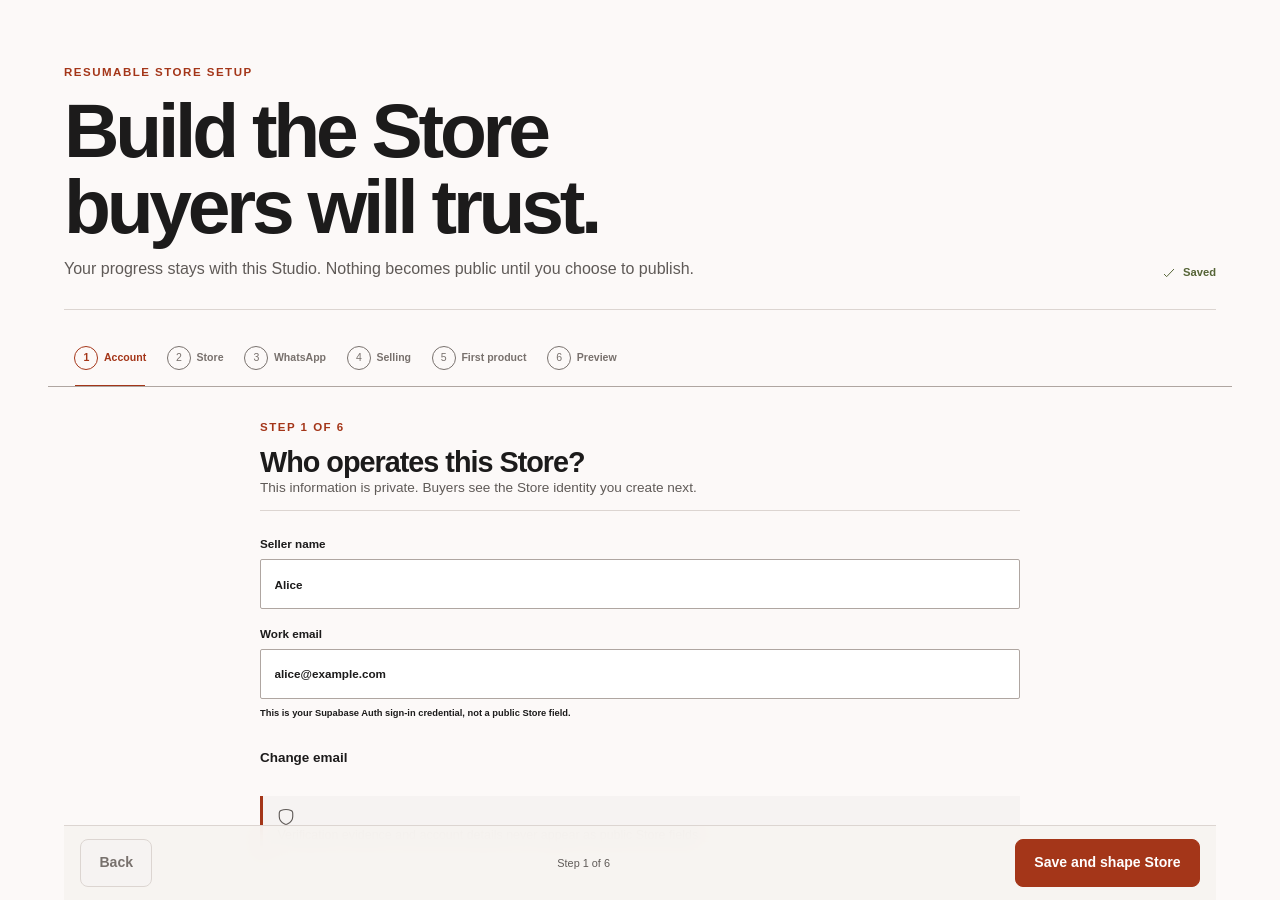
seller onboarding › uses one request for Account → Store and does not advance when persistence fails
Replace the text in the field labelled "Seller name" with "Alice Banda" at (640, 584), box [260, 559, 1020, 609]
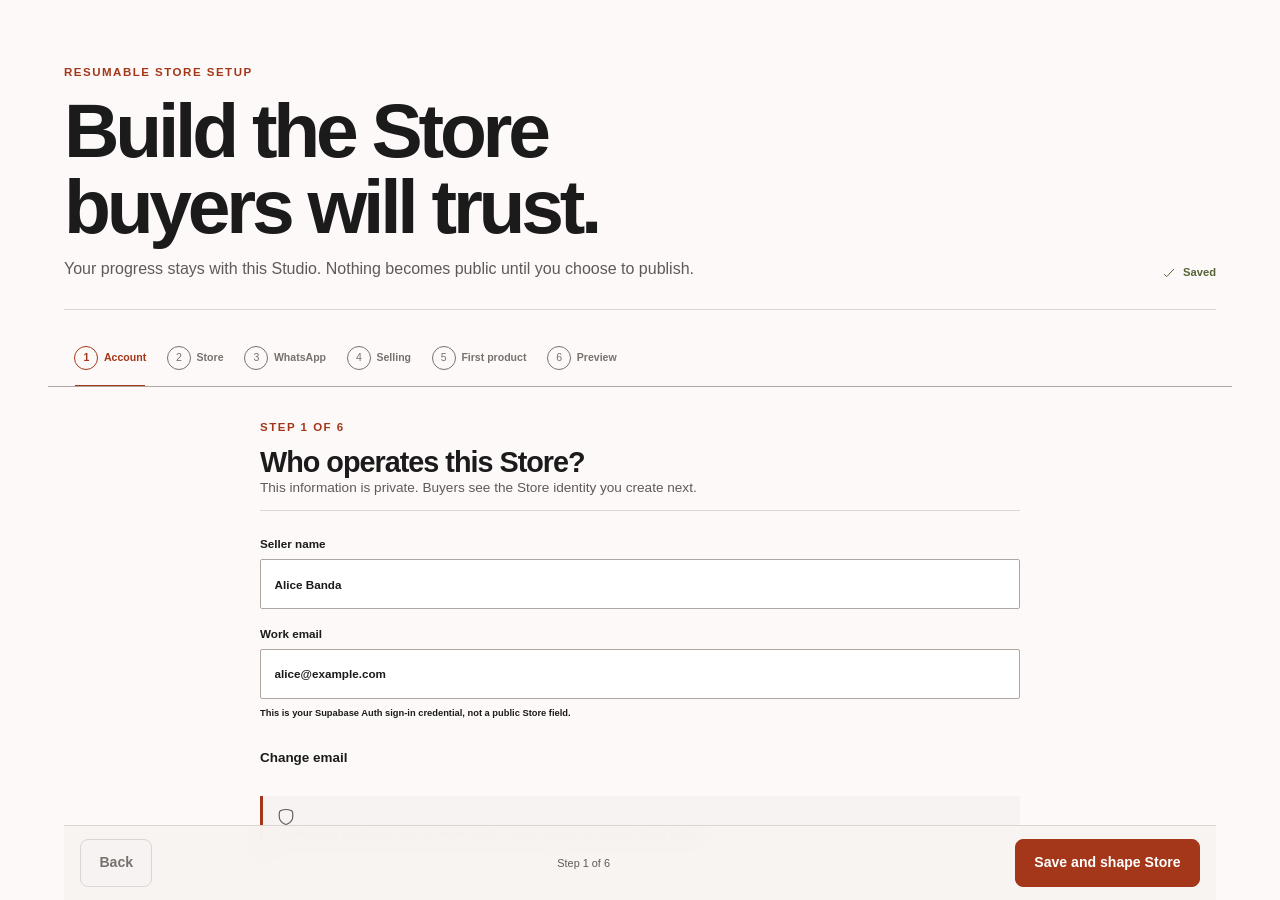
Click the button "Save and shape Store".
click(1107, 863)  # box [1015, 839, 1200, 887]
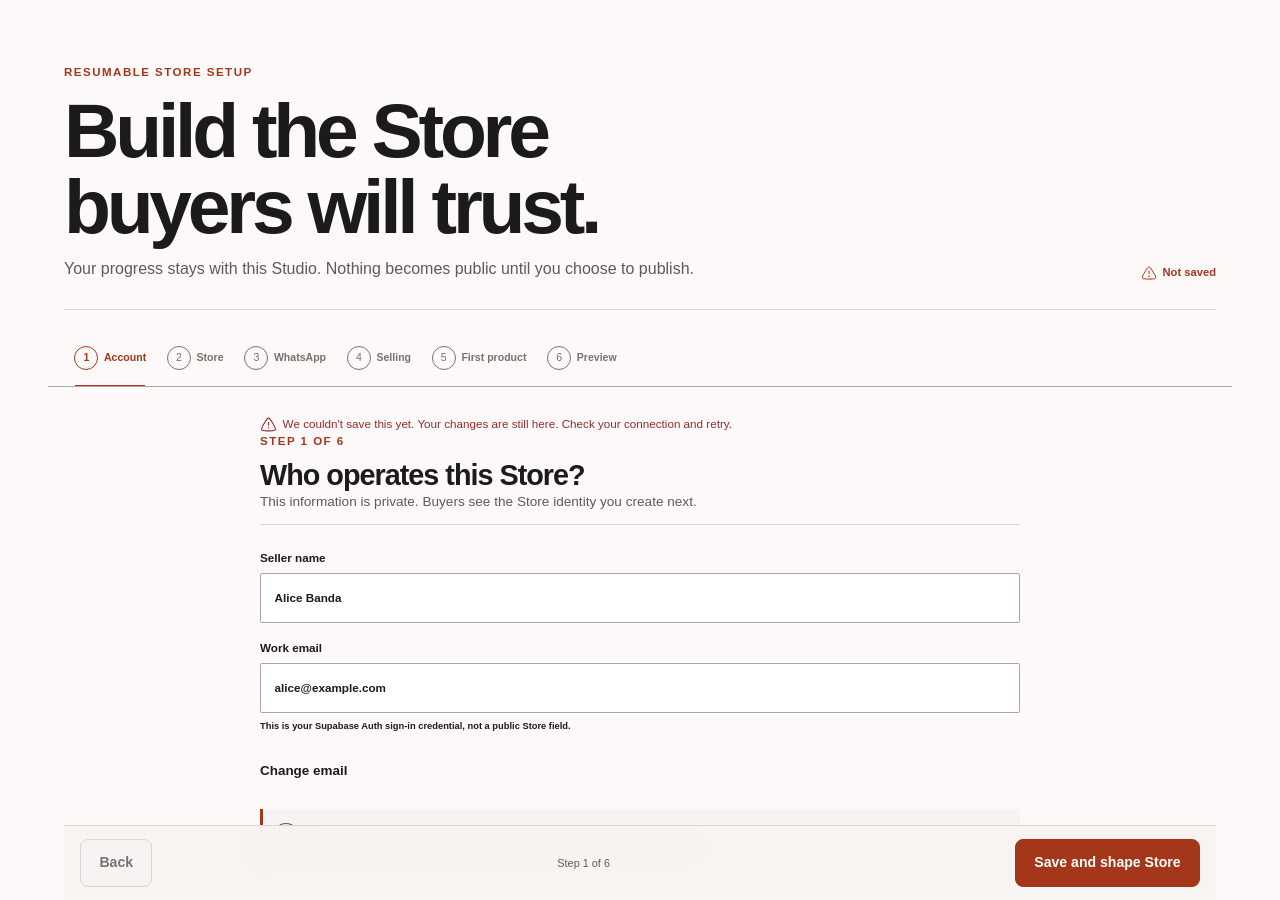
Check: the heading "Who operates this Store?" is shown, box [260, 459, 585, 491]
Check: the text "changes are still here" is shown, box [283, 417, 732, 430]
